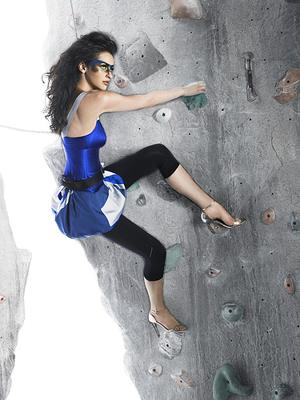person: (43, 33, 246, 337)
